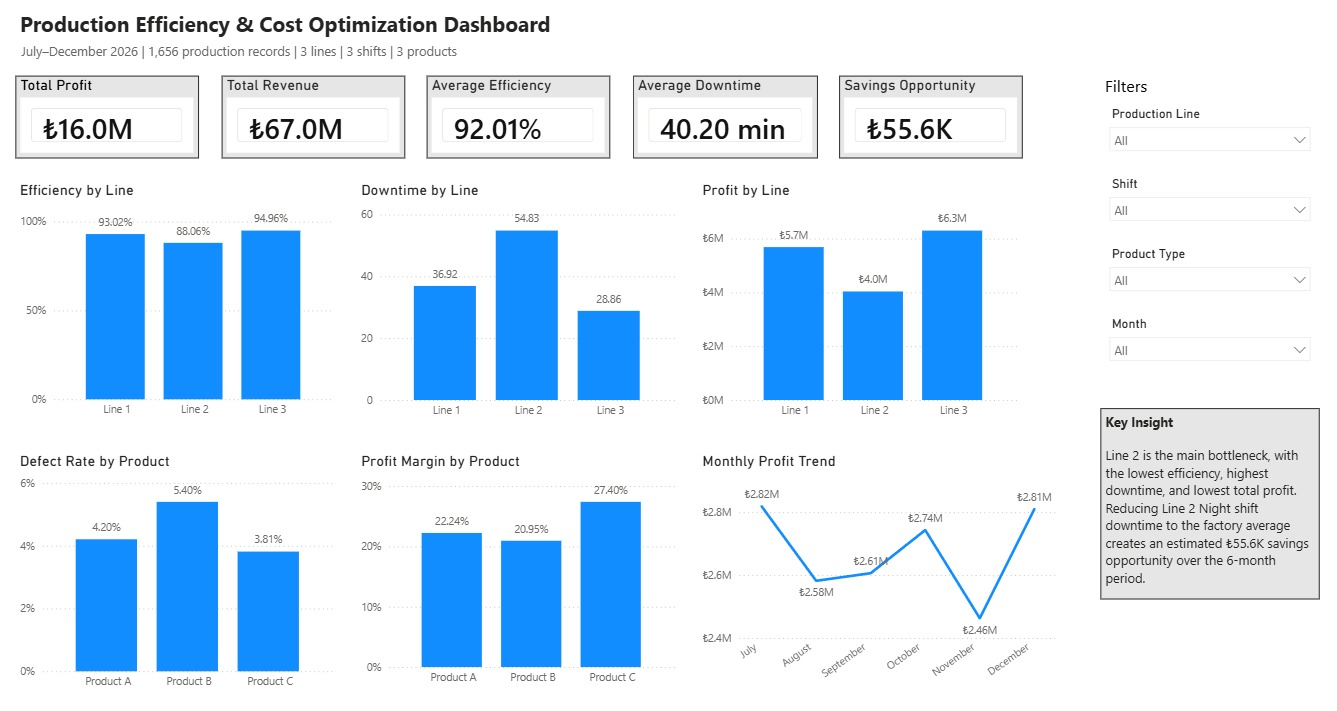

The page's visual inventory and layout, read from the dashboard file:
{"tool":"powerbi","page":{"name":"Page 1","canvas":[1600,900],"ordinal":0},"visuals":[{"type":"cardVisual","title":"Total Profit","fields":{"Data":["ProductionData.Total Profit Display"]},"box":[20.3,89.7,209.8,94.7],"z":0},{"type":"cardVisual","title":"Total Revenue","fields":{"Data":["ProductionData.Total Revenue Display"]},"box":[255.4,89.7,209.8,94.7],"z":1000},{"type":"cardVisual","title":"Average Efficiency","fields":{"Data":["ProductionData.Avg Efficiency Display"]},"box":[490.6,89.7,209.8,94.7],"z":2000},{"type":"cardVisual","title":"Average Downtime","fields":{"Data":["ProductionData.Avg Downtime Display"]},"box":[725.7,89.7,211.5,94.7],"z":3000},{"type":"cardVisual","title":"Savings Opportunity","fields":{"Data":["ProductionData.Savings Opportunity Display"]},"box":[960.9,89.7,209.8,94.7],"z":4000},{"type":"clusteredColumnChart","title":"Efficiency by Line","fields":{"Category":["ProductionData.Production Line"],"Y":["ProductionData.Average Production Efficiency"]},"box":[20,210,370,280],"z":5000},{"type":"clusteredColumnChart","title":"Downtime by Line","fields":{"Category":["ProductionData.Production Line"],"Y":["ProductionData.Average Downtime"]},"box":[410,210,370,280.8],"z":6000},{"type":"clusteredColumnChart","title":"Profit by Line","fields":{"Category":["ProductionData.Production Line"],"Y":["ProductionData.Total Profit"]},"box":[800,210,370,280.8],"z":7000},{"type":"clusteredColumnChart","title":"Defect Rate by Product","fields":{"Category":["ProductionData.Product Type"],"Y":["ProductionData.Average Defect Rate"]},"box":[20,520,370,280.8],"z":8000},{"type":"clusteredColumnChart","title":"Profit Margin by Product","fields":{"Category":["ProductionData.Product Type"],"Y":["ProductionData.Average Profit Margin"]},"box":[410,520,370,276],"z":9000},{"type":"lineChart","title":"Monthly Profit Trend","fields":{"Category":["ProductionData.Month"],"Y":["ProductionData.Total Profit"]},"box":[800.2,519.4,414.5,280.8],"z":10000},{"type":"slicer","fields":{"Values":["ProductionData.Production Line"]},"box":[1260,120,250,65],"z":11000},{"type":"slicer","fields":{"Values":["ProductionData.Shift"]},"box":[1260,200,250,65],"z":12000},{"type":"slicer","fields":{"Values":["ProductionData.Product Type"]},"box":[1260,280,250,65],"z":13000},{"type":"slicer","fields":{"Values":["ProductionData.Month"]},"box":[1260,360,250,65],"z":14000},{"type":"textbox","box":[20.3,10.2,620.9,77.8],"z":15000},{"type":"textbox","box":[22,47.4,749.4,30],"z":16000},{"type":"textbox","box":[1260.3,84.6,82.9,35.5],"z":17000},{"type":"textbox","box":[1260.3,470.3,250.4,218.2],"z":18000}]}

Visuals, with their boxes on the page's 1600x900 design canvas (x1, y1, x2, y2). These are canvas units, not pixel positions in the 1337x711 screenshot, which may show the page scaled, cropped or inside an application window:
"Total Profit" cardVisual: <bbox>20, 90, 230, 184</bbox>
"Total Revenue" cardVisual: <bbox>255, 90, 465, 184</bbox>
"Average Efficiency" cardVisual: <bbox>491, 90, 700, 184</bbox>
"Average Downtime" cardVisual: <bbox>726, 90, 937, 184</bbox>
"Savings Opportunity" cardVisual: <bbox>961, 90, 1171, 184</bbox>
"Efficiency by Line" clusteredColumnChart: <bbox>20, 210, 390, 490</bbox>
"Downtime by Line" clusteredColumnChart: <bbox>410, 210, 780, 491</bbox>
"Profit by Line" clusteredColumnChart: <bbox>800, 210, 1170, 491</bbox>
"Defect Rate by Product" clusteredColumnChart: <bbox>20, 520, 390, 801</bbox>
"Profit Margin by Product" clusteredColumnChart: <bbox>410, 520, 780, 796</bbox>
"Monthly Profit Trend" lineChart: <bbox>800, 519, 1215, 800</bbox>
slicer - ProductionData.Production Line: <bbox>1260, 120, 1510, 185</bbox>
slicer - ProductionData.Shift: <bbox>1260, 200, 1510, 265</bbox>
slicer - ProductionData.Product Type: <bbox>1260, 280, 1510, 345</bbox>
slicer - ProductionData.Month: <bbox>1260, 360, 1510, 425</bbox>
textbox: <bbox>20, 10, 641, 88</bbox>
textbox: <bbox>22, 47, 771, 77</bbox>
textbox: <bbox>1260, 85, 1343, 120</bbox>
textbox: <bbox>1260, 470, 1511, 688</bbox>
